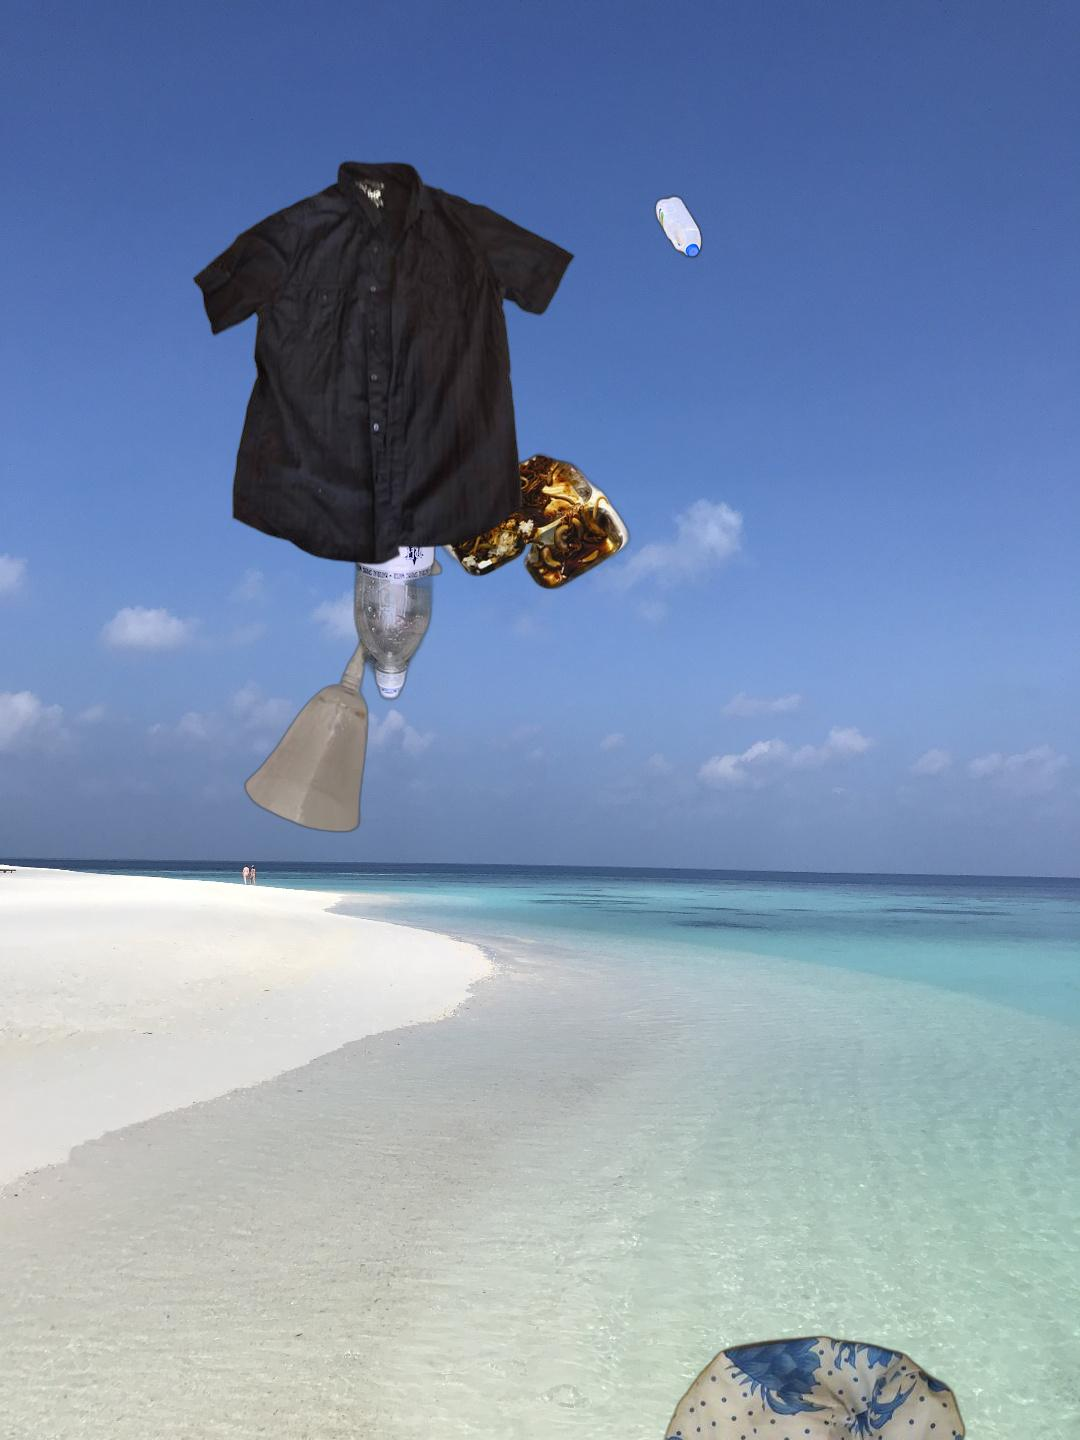biological: (324, 427, 758, 639), (1006, 1271, 1080, 1440)
clothes: (189, 156, 577, 569), (539, 1333, 1075, 1440)
glass: (241, 531, 446, 836)
plastic-bottles: (349, 154, 549, 782), (651, 190, 707, 263)
